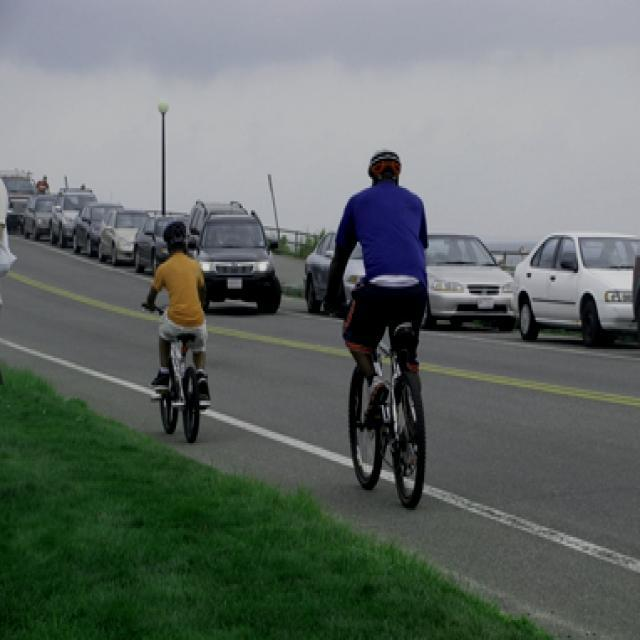Helmet: (364, 146, 407, 197), (162, 217, 190, 255)
